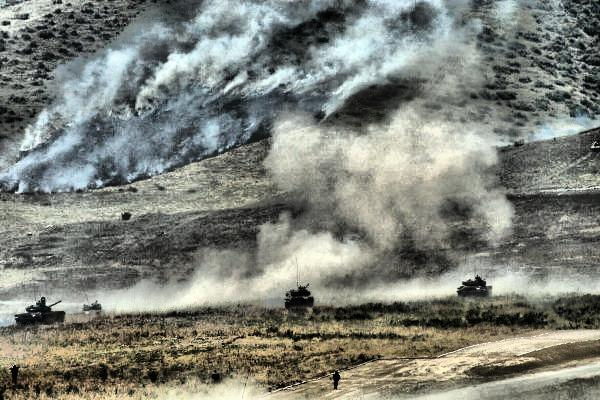military-vehicle: (15, 297, 65, 327), (457, 275, 493, 299), (286, 284, 317, 307)
